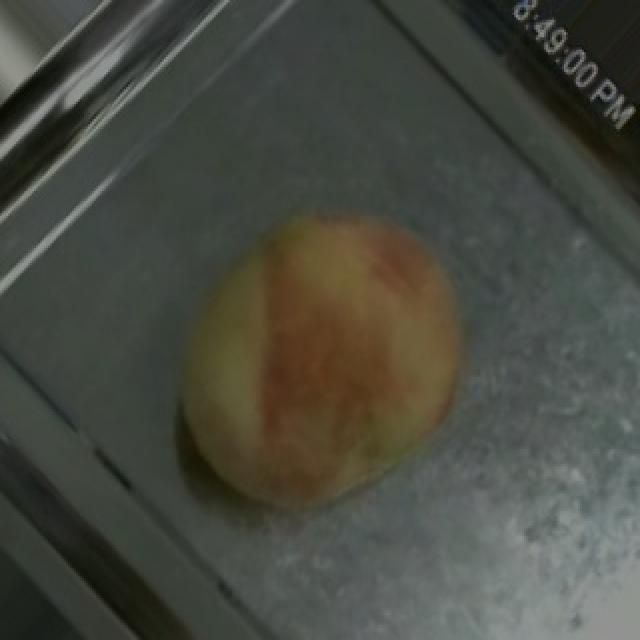Fruit: (132, 159, 498, 588)
